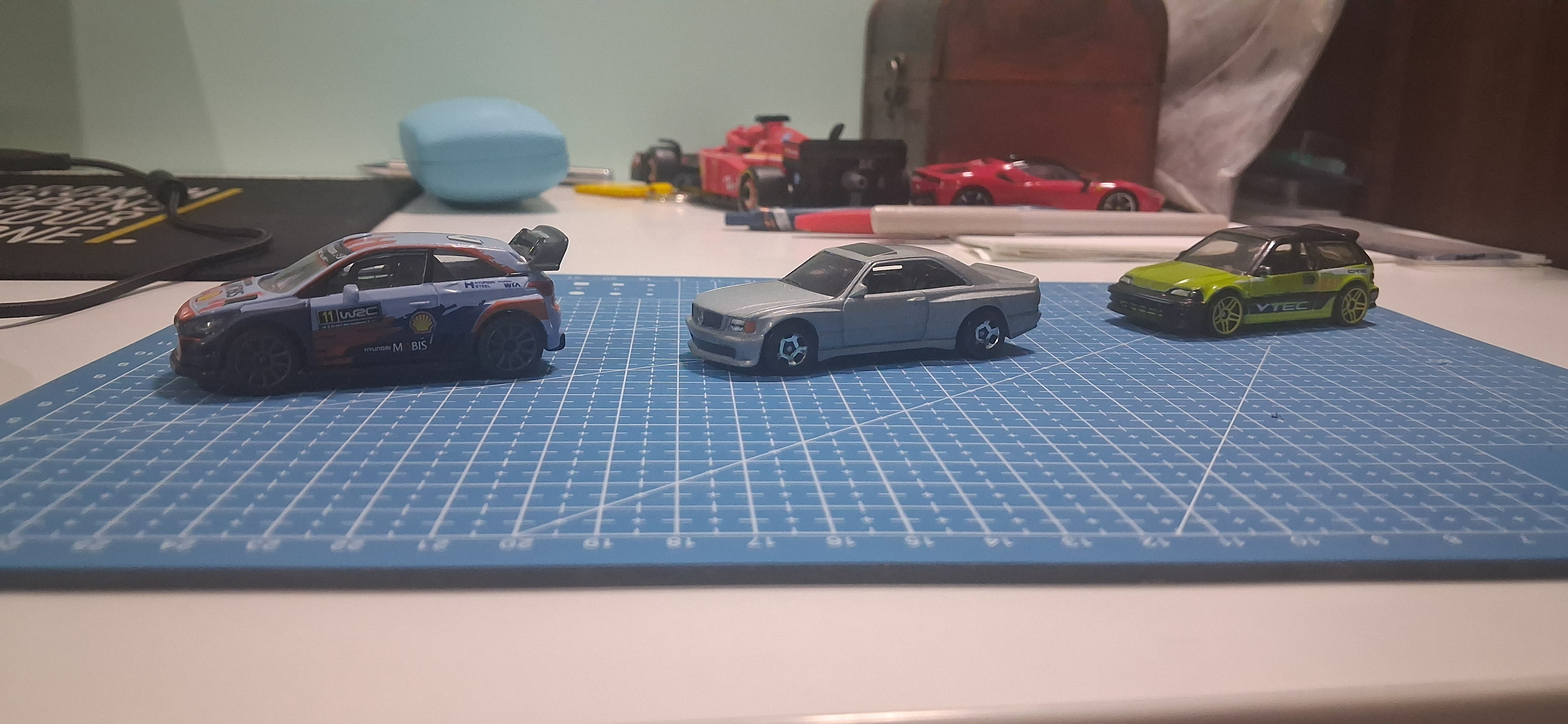Honda_Civic: (1089, 201, 1396, 372)
Hyundai_I20_WRC: (108, 209, 585, 425)
Mercedes_Benz_560_SEC_AMG: (666, 243, 1064, 412)
